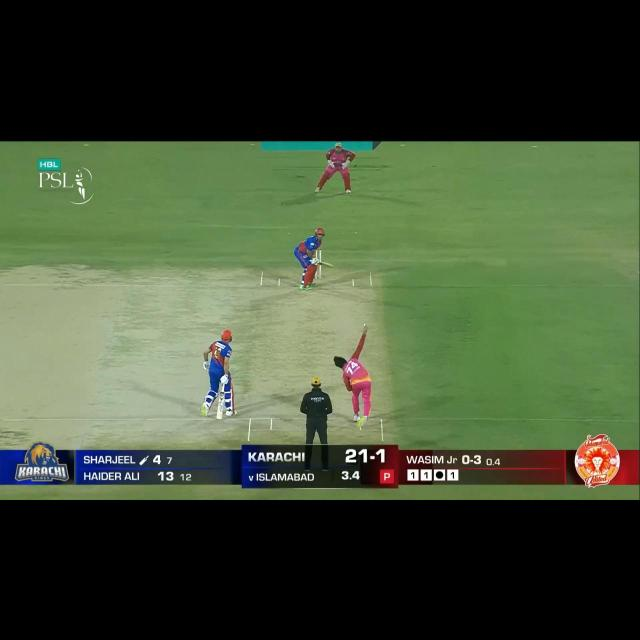bat: (214, 392, 226, 422), (317, 260, 335, 270)
toe: (215, 412, 224, 422), (326, 261, 334, 270)
